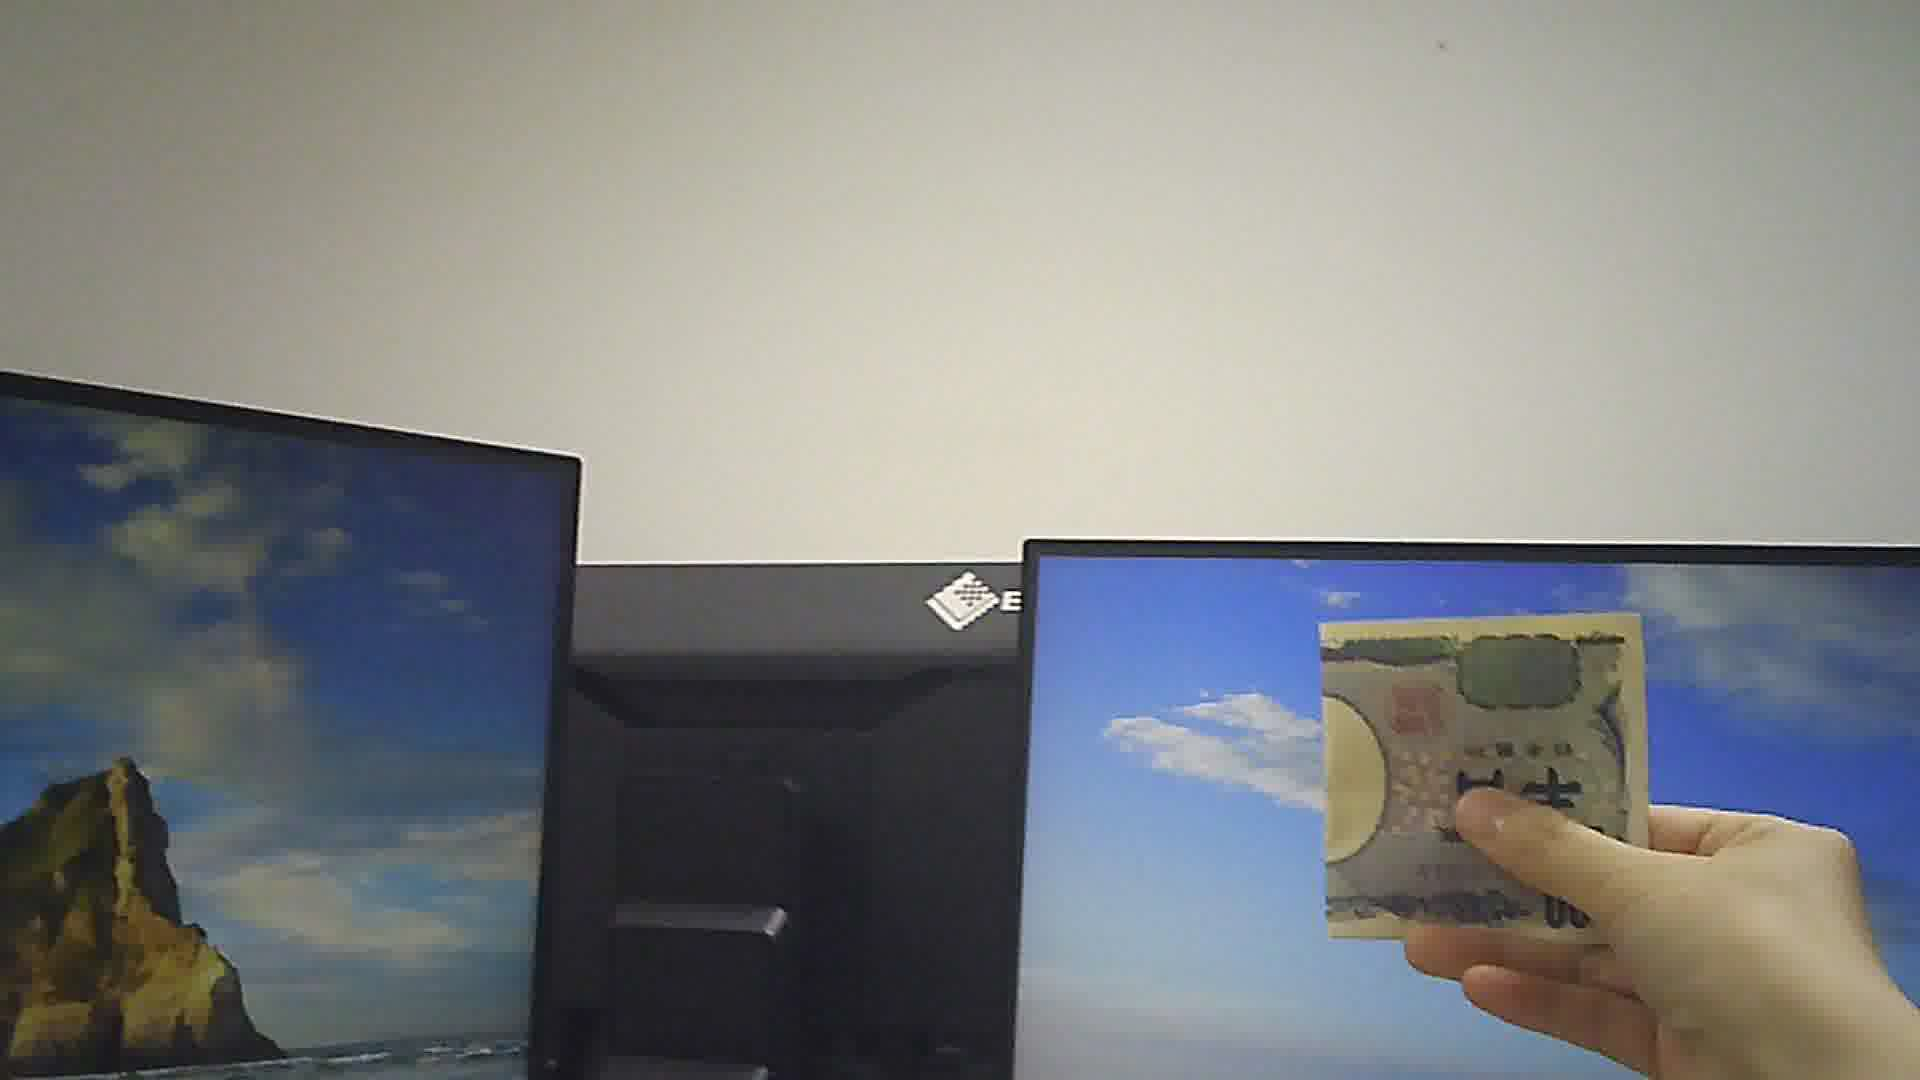1,000 Yen: (1311, 607, 1660, 993)
